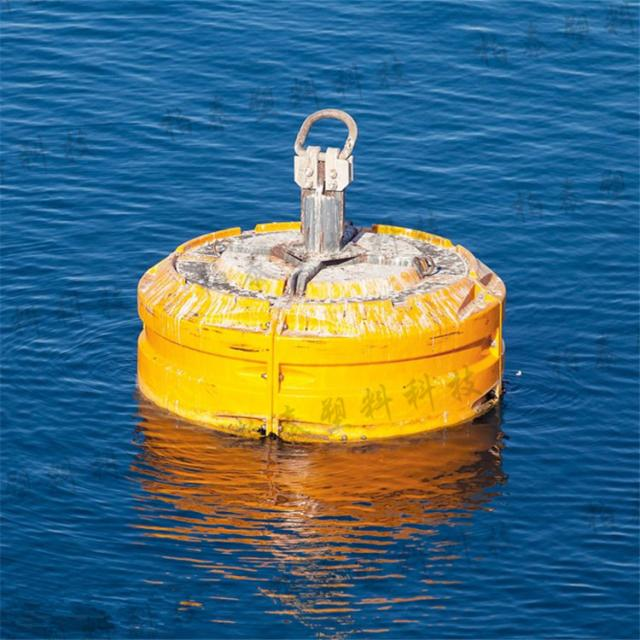buoy: (134, 104, 505, 447)
